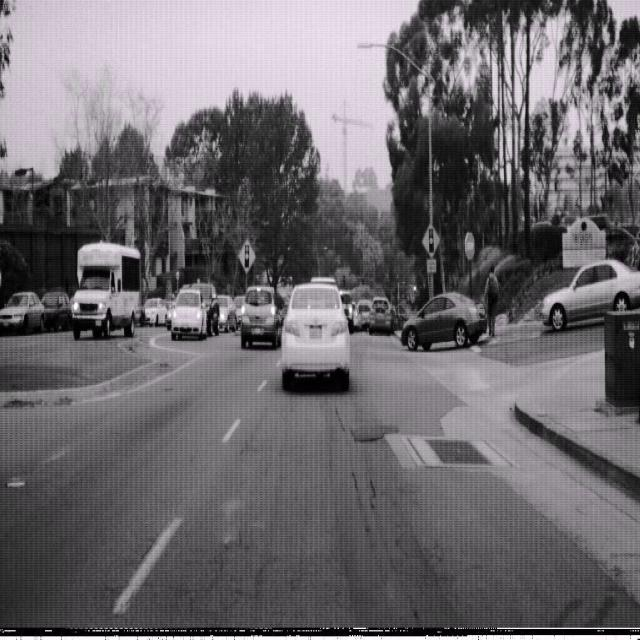stop_sign: (464, 231, 476, 261)
